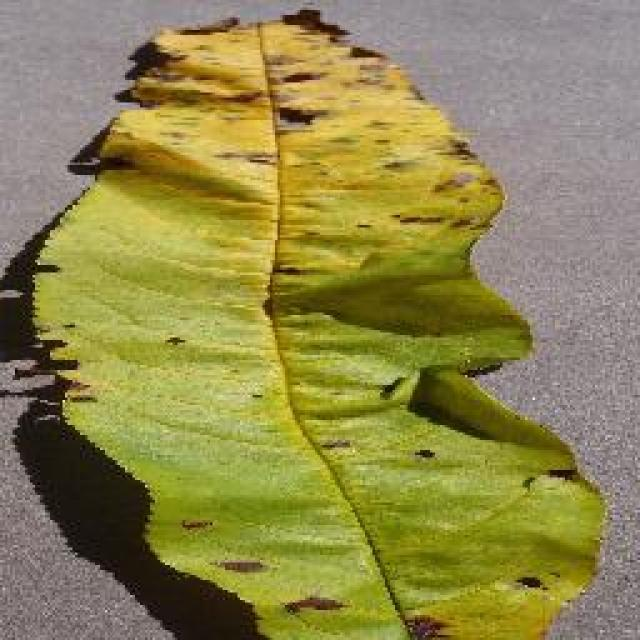Peach_Bacterial_Spot: (97, 42, 465, 368)
